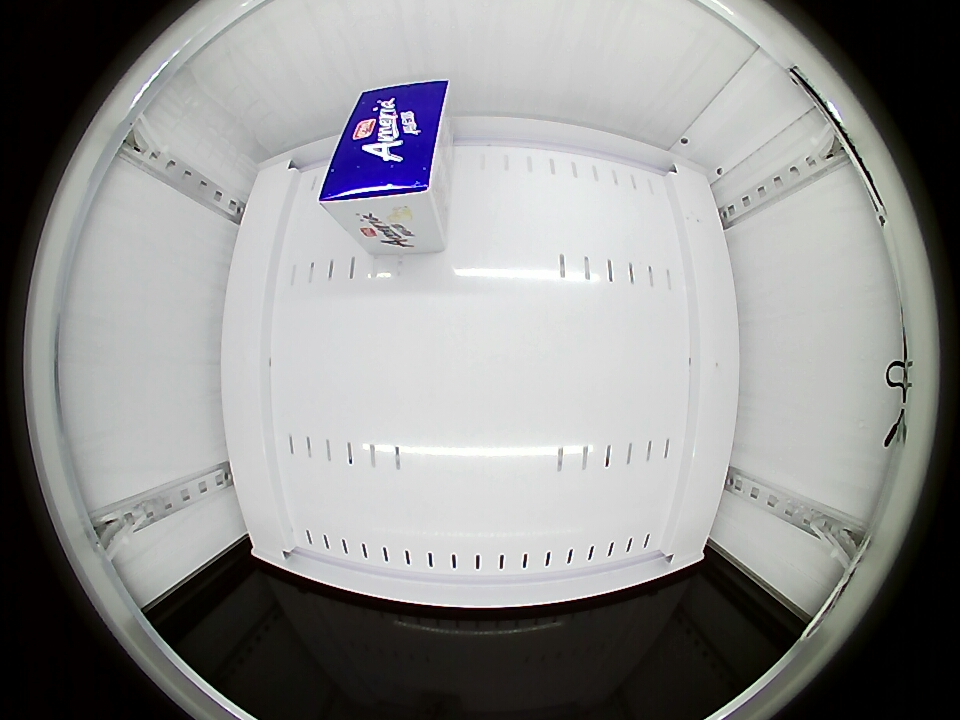meiniye: (317, 78, 449, 226)
